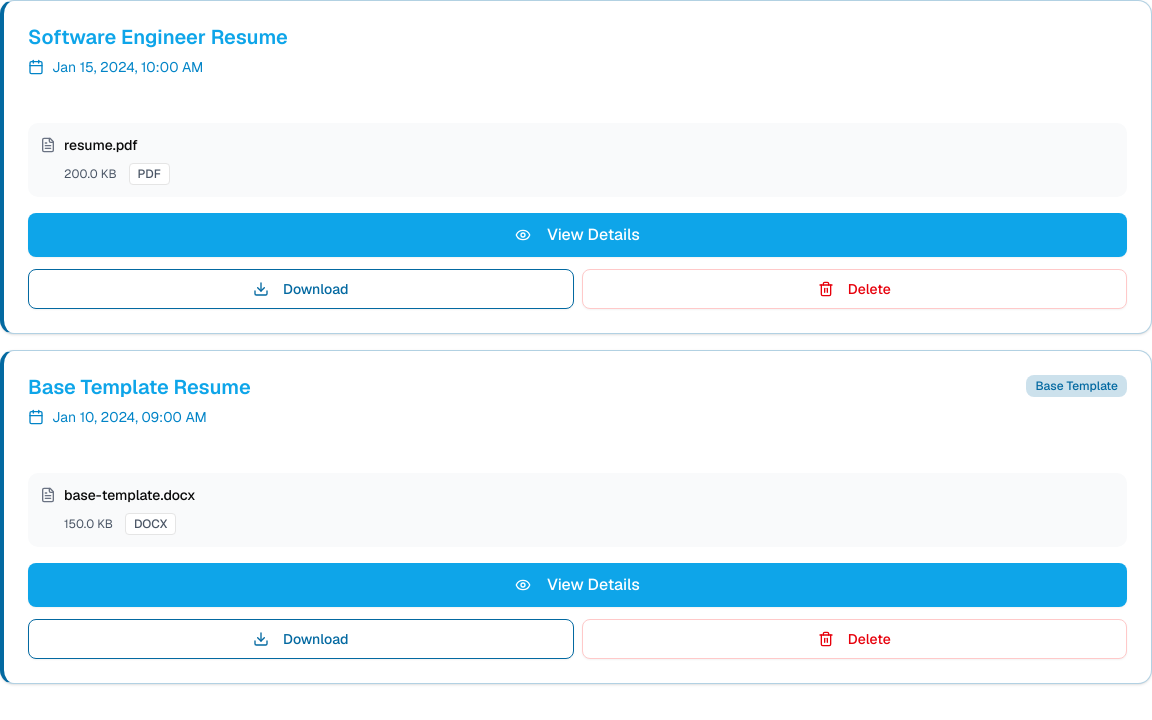
ResumeList › should disable delete button during deletion
Click the 1st button "Delete": (854, 289) [582,269,1127,309]
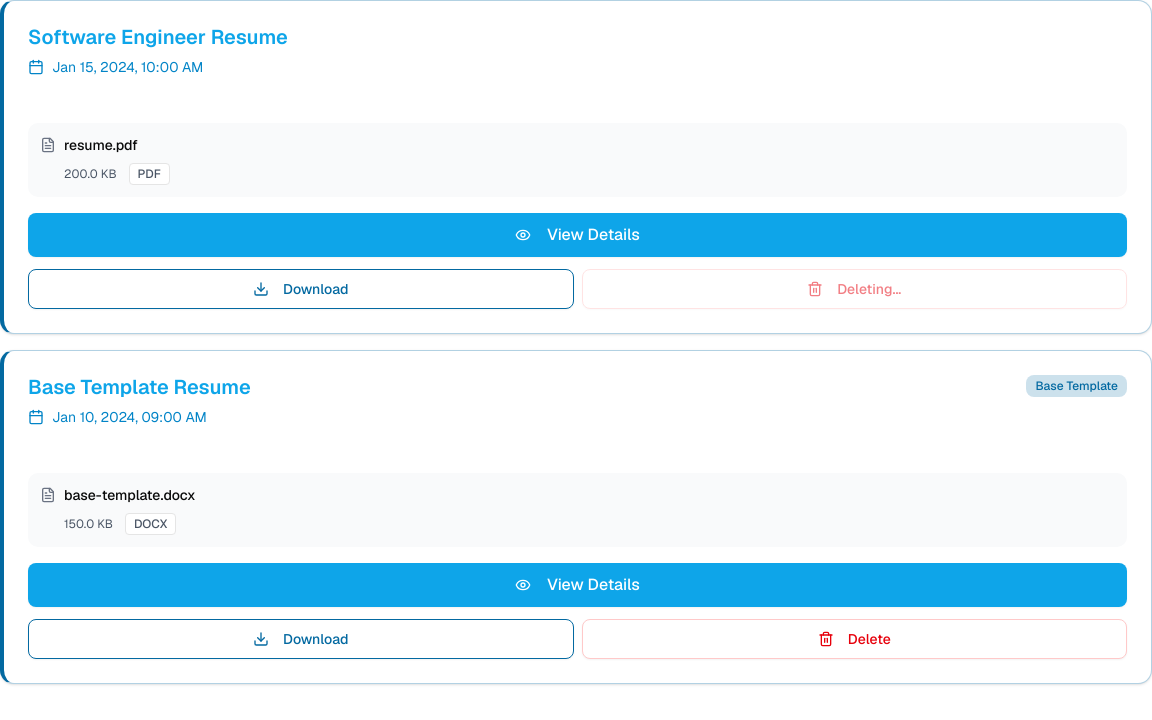
Check: the button "Deleting..." is disabled, box [582,269,1127,309]
